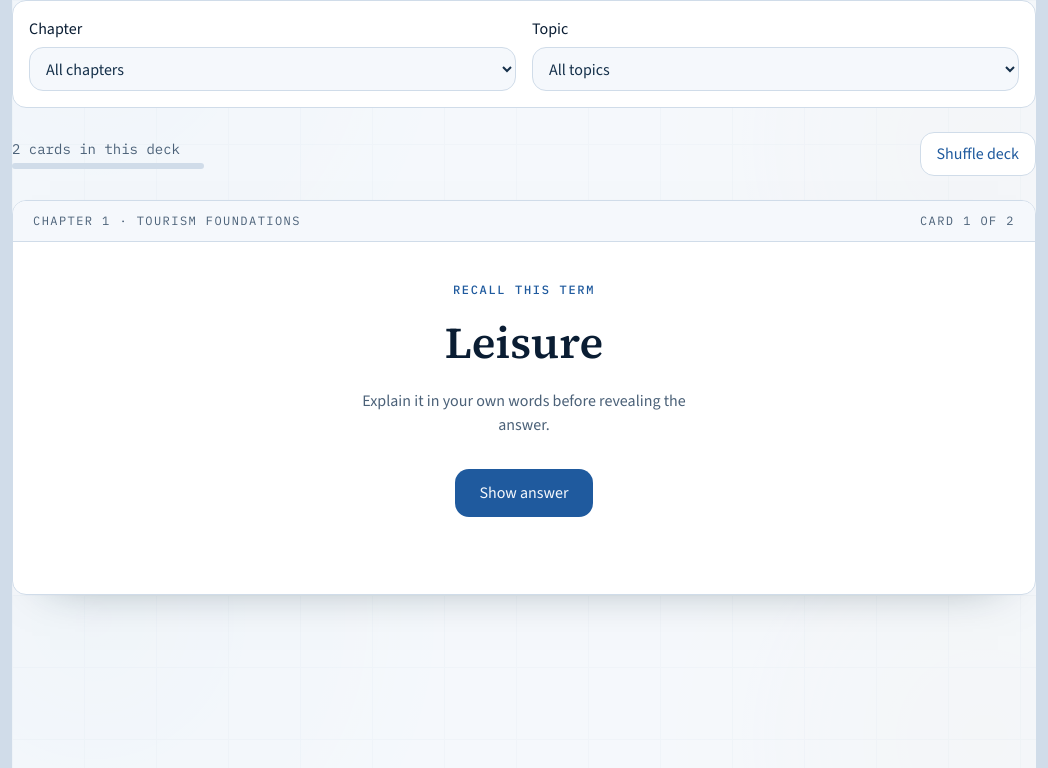
Test: FlashcardDeck › filters to a chapter and resets the current deck
Select "CHAPTER 2: World Geography and Climate" in the dropdown labelled "Chapter" at (272, 69), box [29,47,516,91]
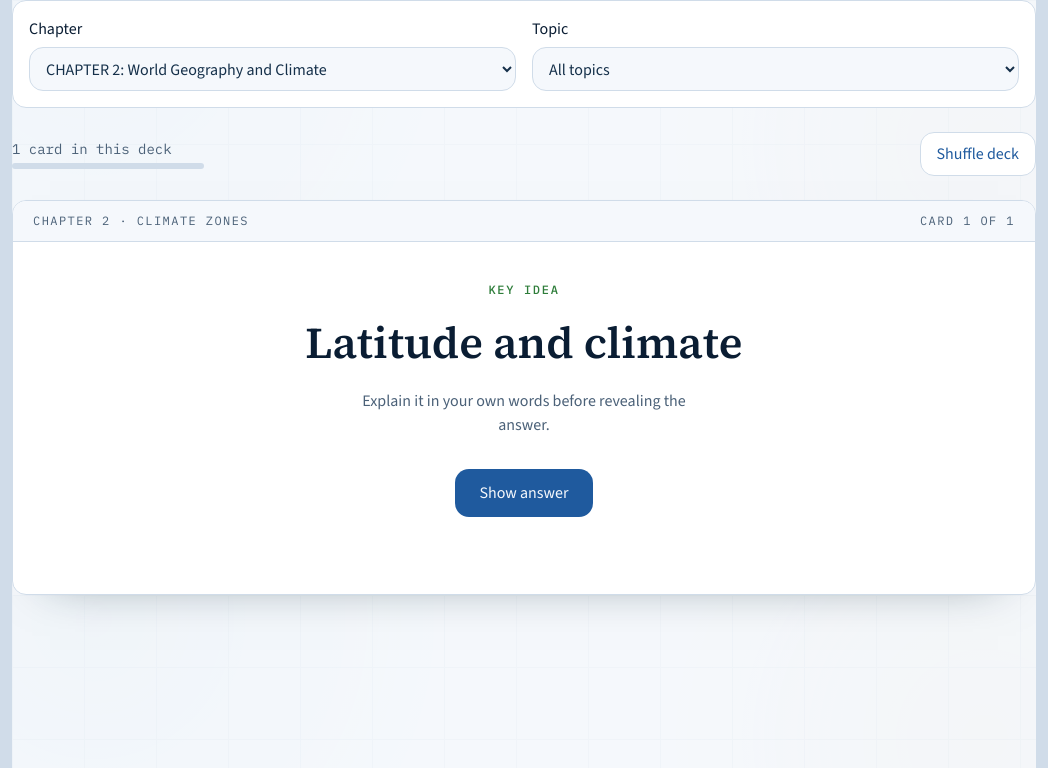
Check: the heading "Latitude and climate" is shown, box [305,318,743,369]
Check: the text "1 card in this deck" is shown, box [12,140,172,158]
